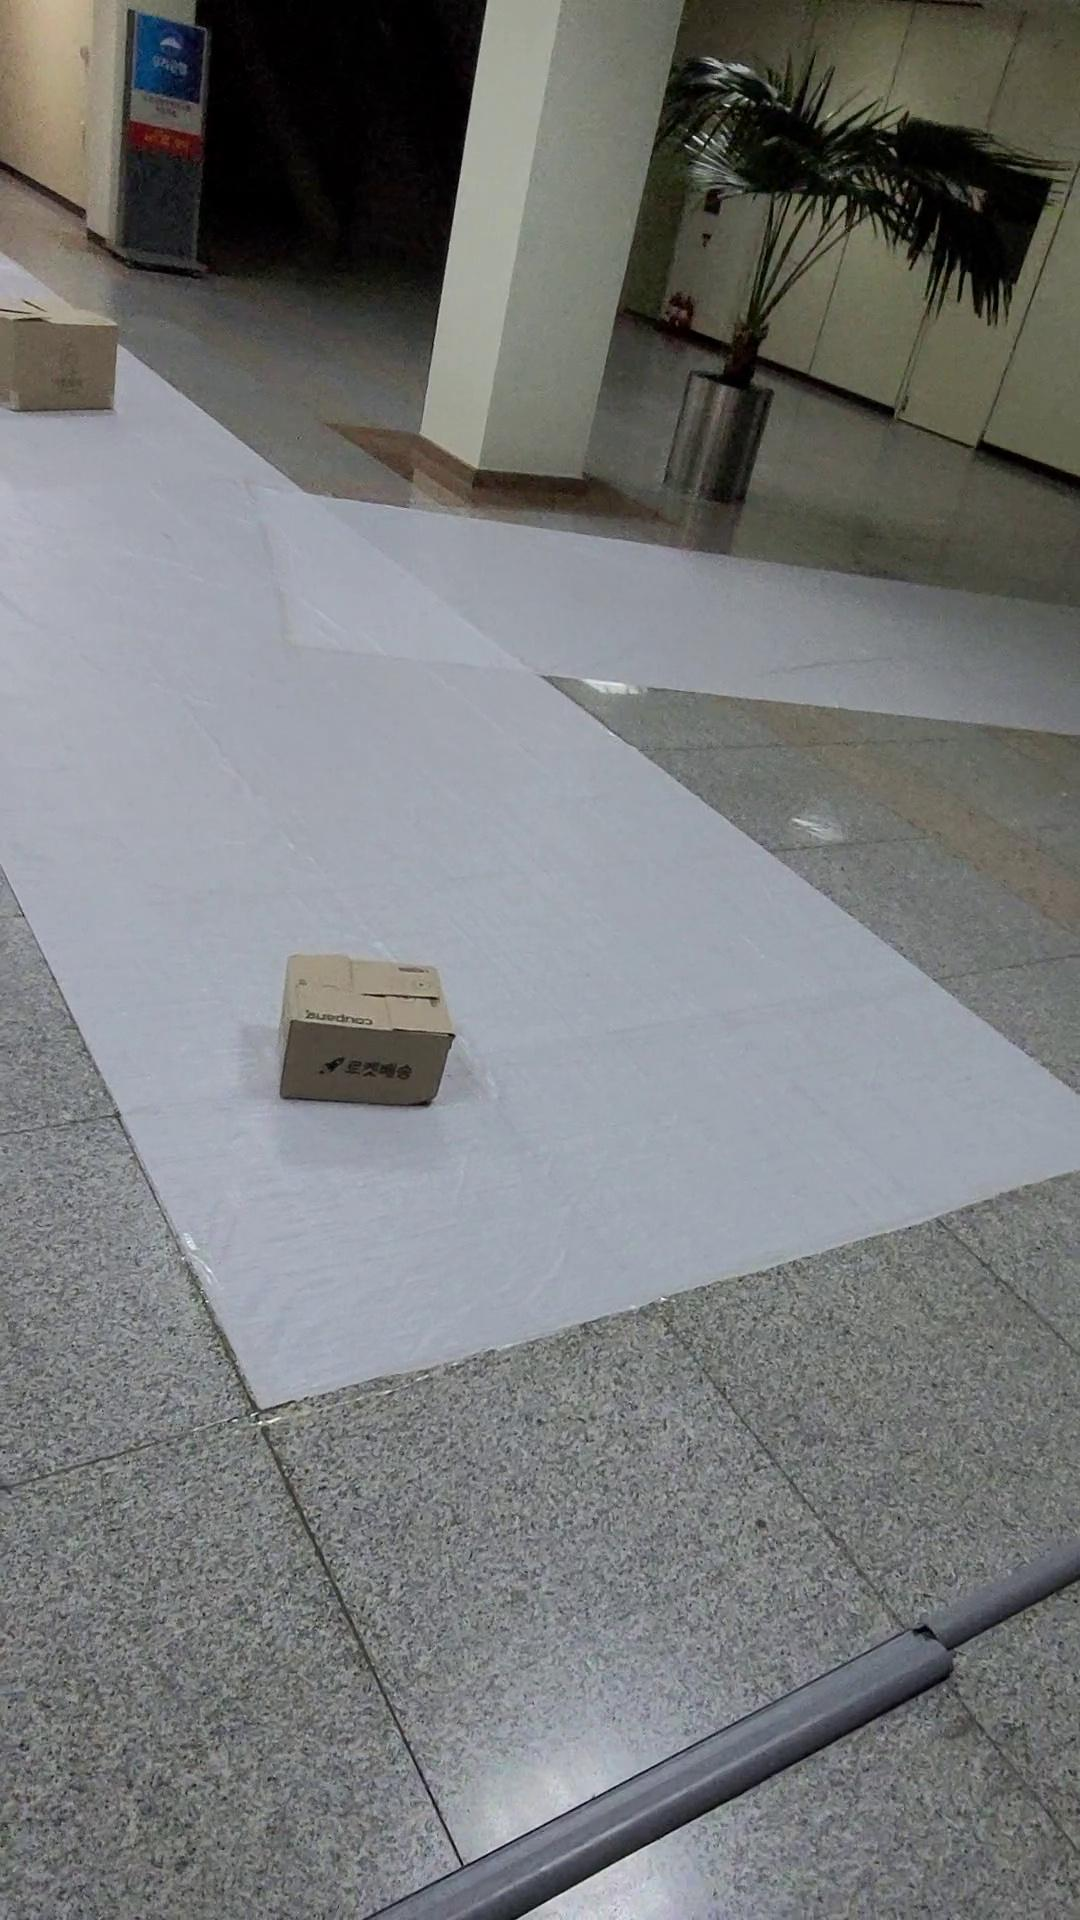Box: (272, 935, 455, 1153), (0, 253, 152, 454)
